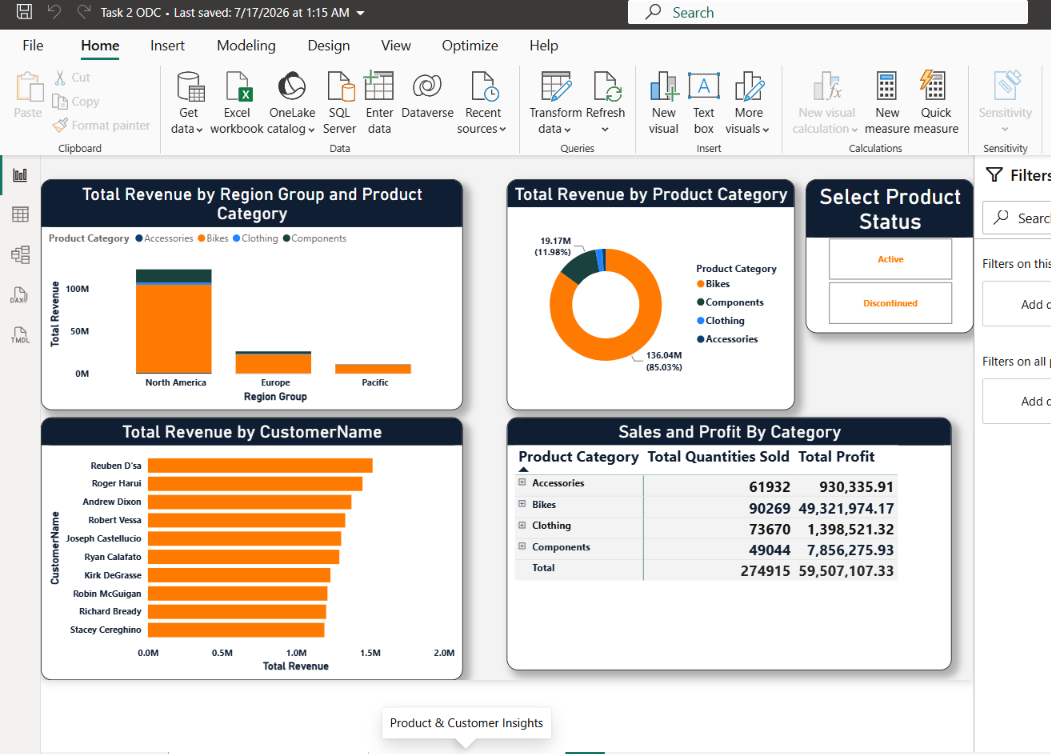

This screenshot's page, from the dashboard's own definition file:
{"tool":"powerbi","page":{"name":"Product & Customer Insights","canvas":[1280,720],"ordinal":1},"visuals":[{"type":"pivotTable","title":"Sales and Profit By Category ","fields":{"Rows":["products.Product Category Hierarchy.Product Category","products.Product Category Hierarchy.Product Subcategory"],"Values":["Sales.Total Quantities Sold","Sales.Total Profit"]},"box":[639.5,359.5,610.6,347.2],"z":0},{"type":"clusteredBarChart","fields":{"Y":["Sales.Total Revenue"],"Category":["Dim_customers.CustomerName"]},"box":[0,359.5,579.1,360.9],"z":1000},{"type":"donutChart","fields":{"Category":["products.Product Category"],"Y":["Sales.Total Revenue"]},"box":[639.5,32.9,395.2,317],"z":2000},{"type":"slicer","title":"Select Product Status","fields":{"Values":["products.ProductStatus"]},"box":[1049.7,32.9,230.5,211.3],"z":3000},{"type":"columnChart","fields":{"Series":["products.Product Category"],"Y":["Sales.Total Revenue"],"Category":["DIM_Region.Region Group"]},"box":[0,32.9,579.1,317],"z":4000}]}

Visuals, with their boxes on the page's 1280x720 design canvas (x1, y1, x2, y2). These are canvas units, not pixel positions in the 1051x754 screenshot, which may show the page scaled, cropped or inside an application window:
"Sales and Profit By Category " pivotTable: locate(640, 360, 1250, 707)
clusteredBarChart - Sales.Total Revenue x Dim_customers.CustomerName: locate(0, 360, 579, 720)
donutChart - products.Product Category x Sales.Total Revenue: locate(640, 33, 1035, 350)
"Select Product Status" slicer: locate(1050, 33, 1280, 244)
columnChart - products.Product Category x Sales.Total Revenue: locate(0, 33, 579, 350)
